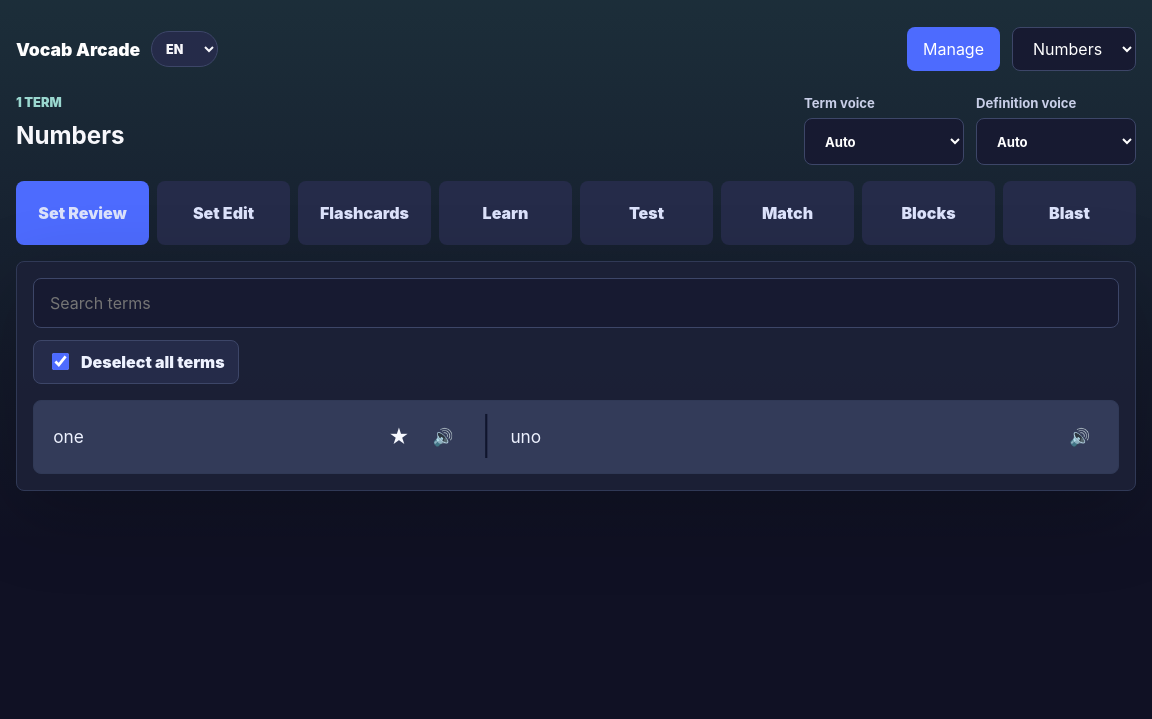
Test case: App › opens and cancels the merge saved sets dialog
Click the button "Manage": (954, 49) top-left (907, 27), bottom-right (1000, 71)
(page scrolled)
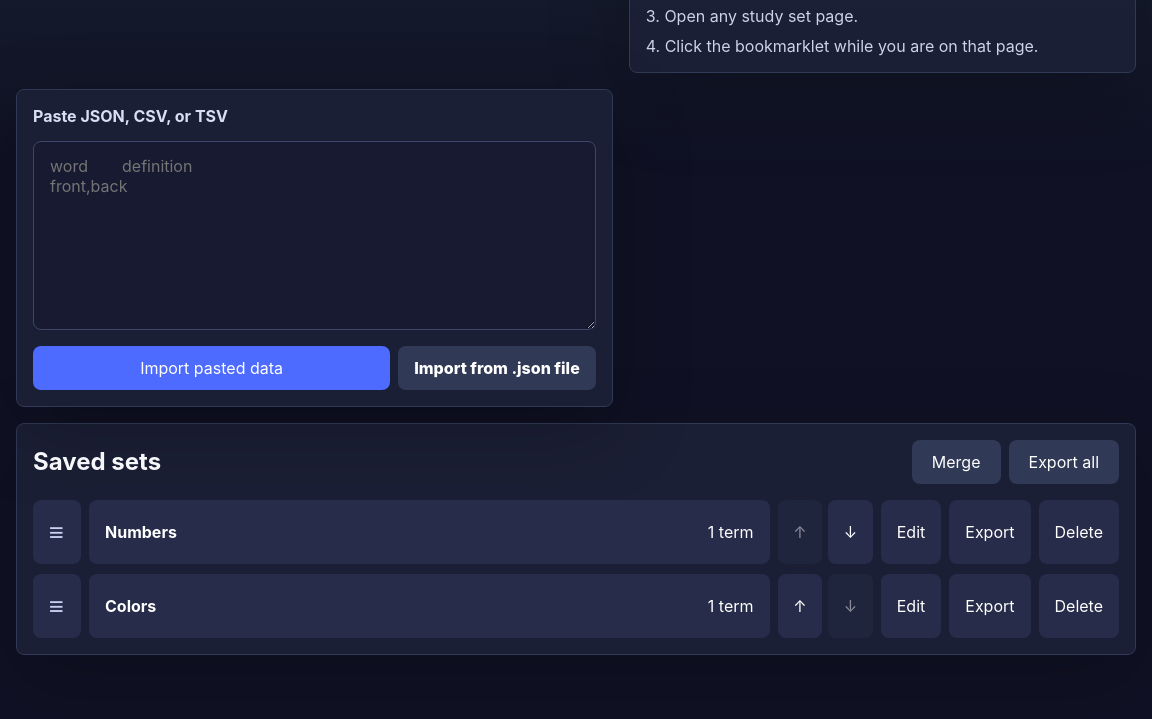
Click the button with aria-label "Merge saved sets": (956, 462) top-left (912, 440), bottom-right (1000, 484)
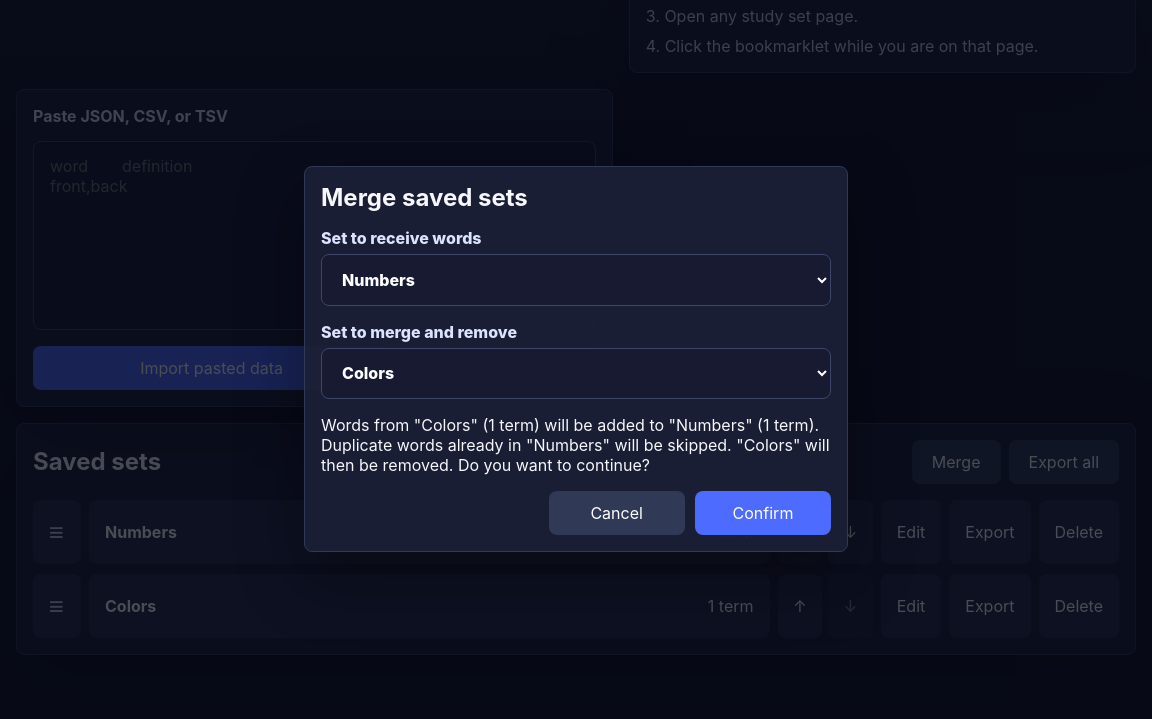
Now the dialog "Merge saved sets" is shown, box top-left (304, 166), bottom-right (848, 552)
Now the dropdown labelled "Set to receive words" shows "Numbers", box top-left (321, 254), bottom-right (831, 306)
Now the dropdown labelled "Set to merge and remove" shows "Colors", box top-left (321, 348), bottom-right (831, 399)
Click the button "Cancel": (617, 513) top-left (549, 491), bottom-right (685, 535)
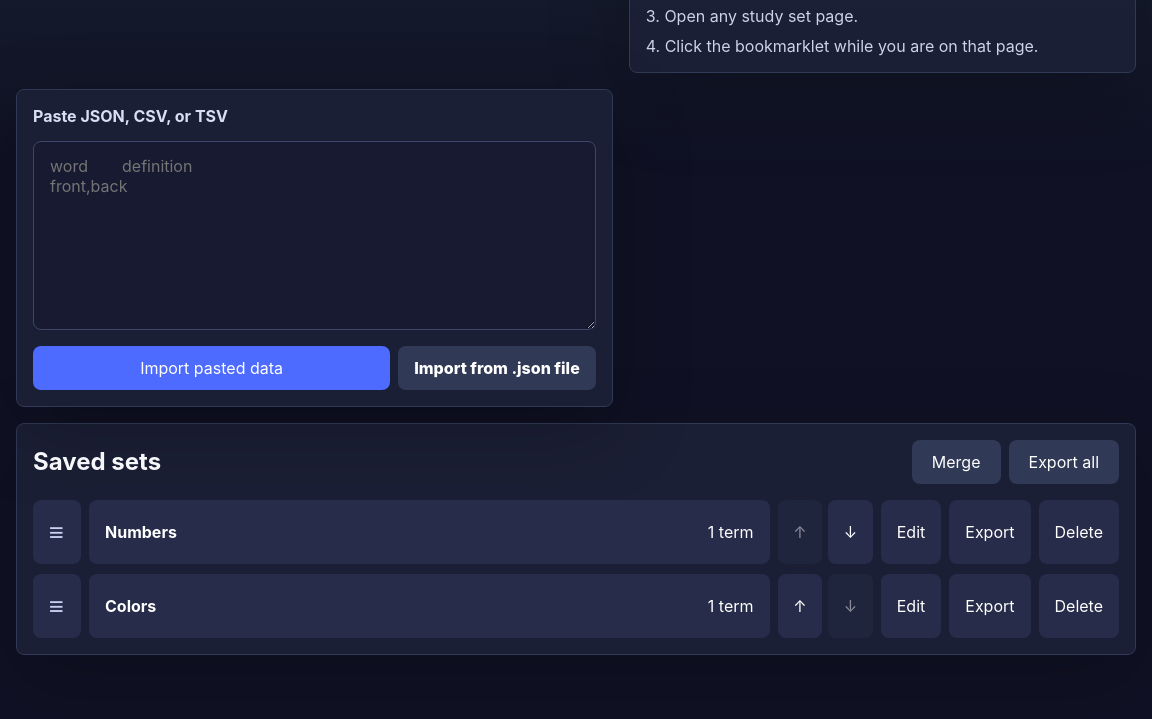
Now the heading "Merge saved sets" is gone
